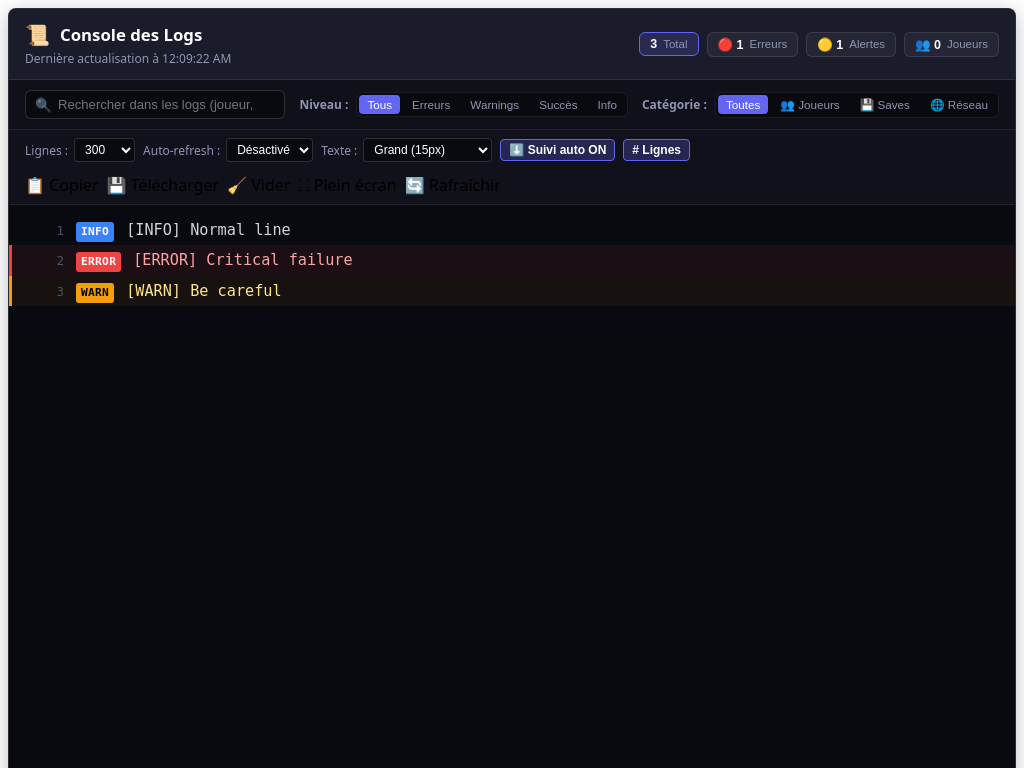
Test: GameServerLogsPanel › filtre les logs par niveau quand on clique sur le filtre d'erreurs
Step 1. Click the button with class "gsl-pill" showing "Erreurs" → (431, 104), box [404,95,458,114]
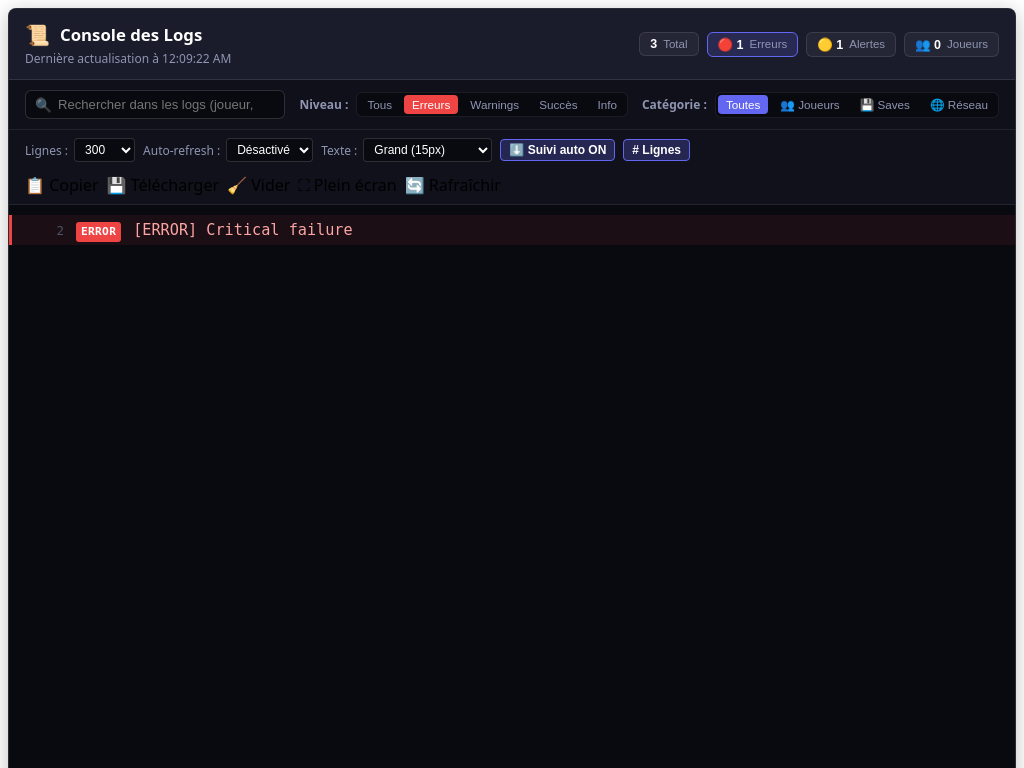
Expected: the text "Critical failure" is shown, [133,221,353,239]
Expected: the text "Normal line" is gone
